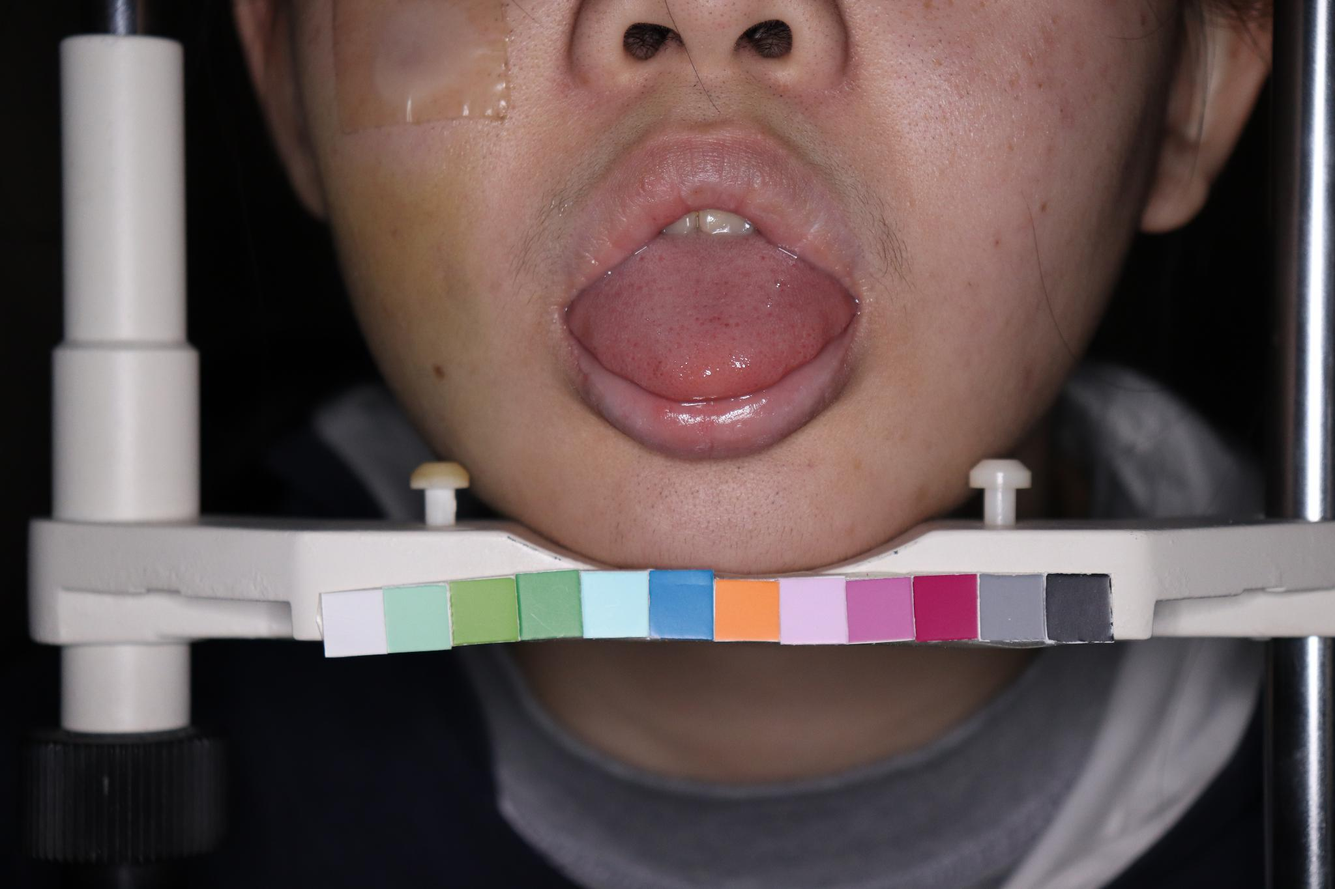baitaishe: (566, 229, 857, 401)
hongdianshe: (638, 253, 646, 262), (759, 253, 767, 261), (723, 321, 731, 328), (694, 314, 700, 321), (656, 358, 662, 365), (716, 315, 722, 322)
